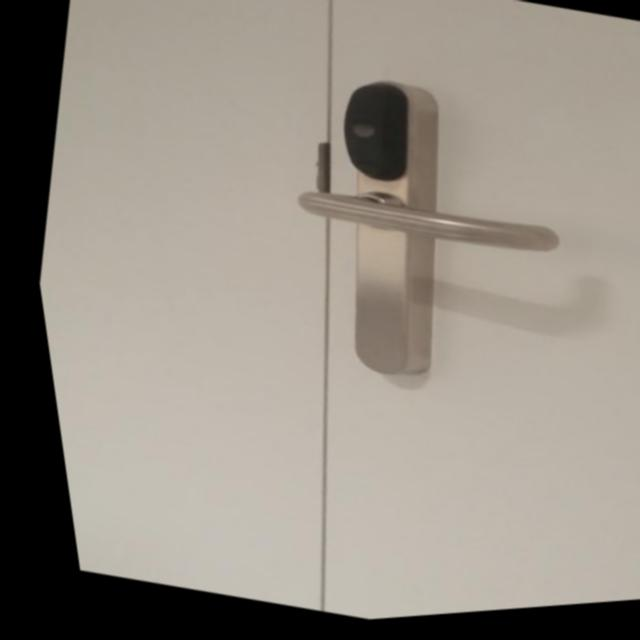door_handle: (276, 161, 564, 288)
